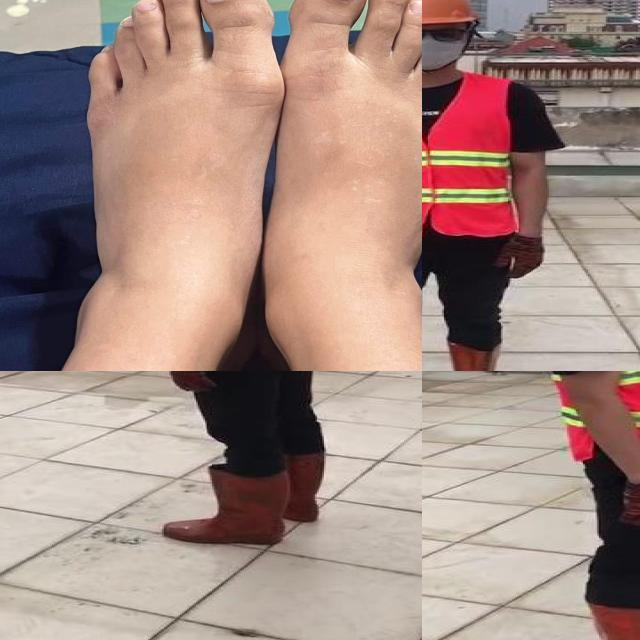Barefoots: (87, 0, 422, 371)
boots: (164, 467, 288, 545), (282, 452, 330, 522), (442, 341, 511, 371)
face_mask: (422, 23, 475, 71)
glasses: (422, 22, 471, 46)
hand_glove: (496, 236, 547, 281), (165, 371, 215, 393), (618, 481, 640, 528)
head_helmet: (422, 0, 480, 28)
person: (422, 0, 569, 371), (142, 371, 364, 554), (519, 371, 640, 640)
vest: (422, 74, 518, 236), (518, 371, 640, 462)
